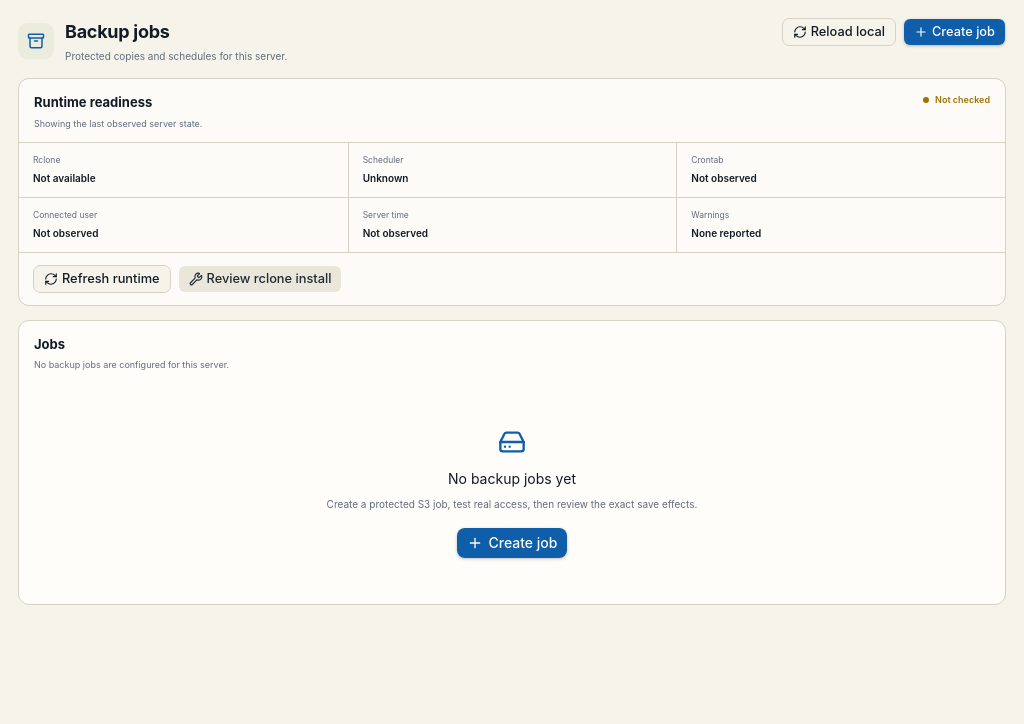
Test: BackupsTab protected workflows › rolls back a new Keychain entry when save admission fails
Expected: the heading "No backup jobs yet" is shown, [448,468,576,489]
Click the button with aria-label "New backup job" at (954, 32), box [903,18,1006,46]
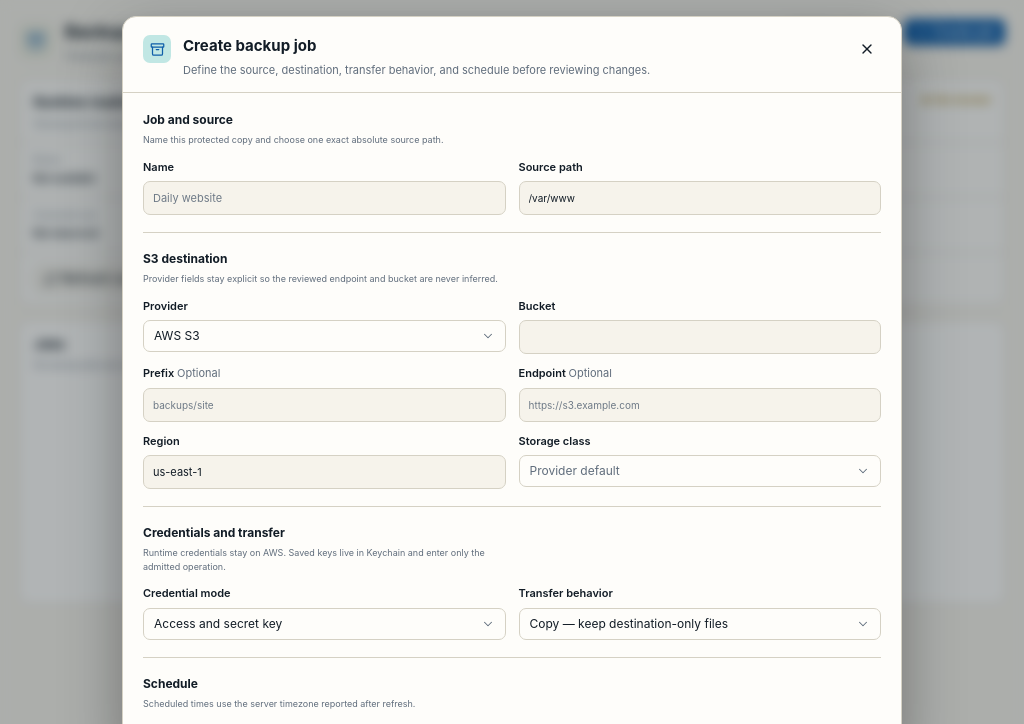
Type "New protected job" into the field labelled "Name" at (324, 198), box [143,181,506,215]
Type "archive-bucket" into the field labelled "Bucket" at (700, 337), box [518,320,881,354]
(page scrolled)
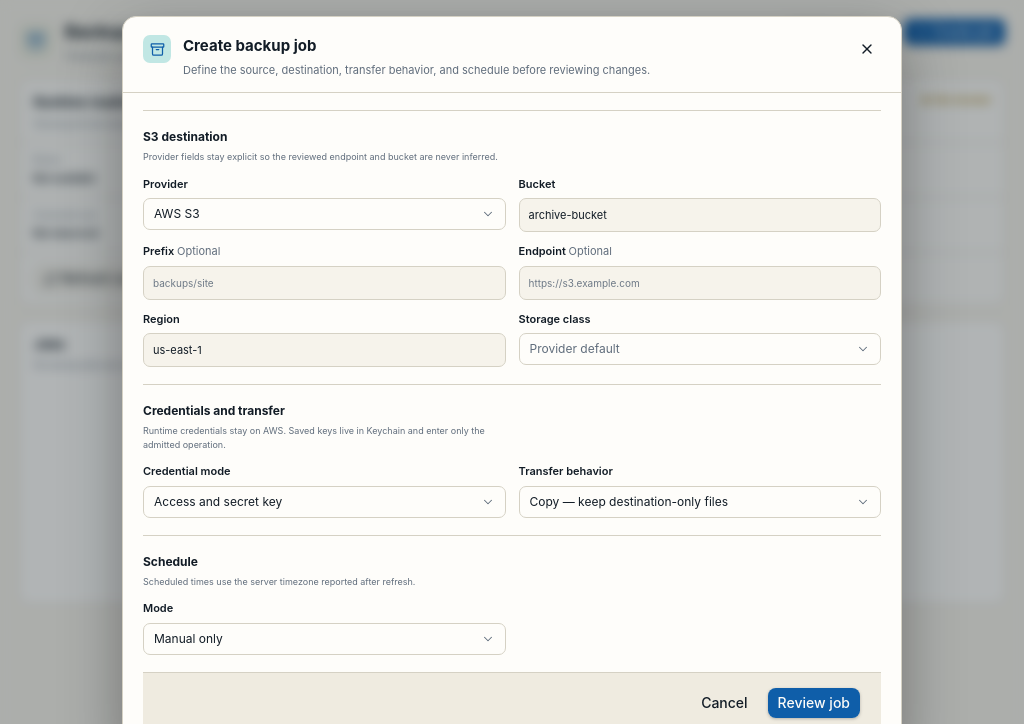
Click the button "Review job" at (814, 702), box [767,686,861,718]
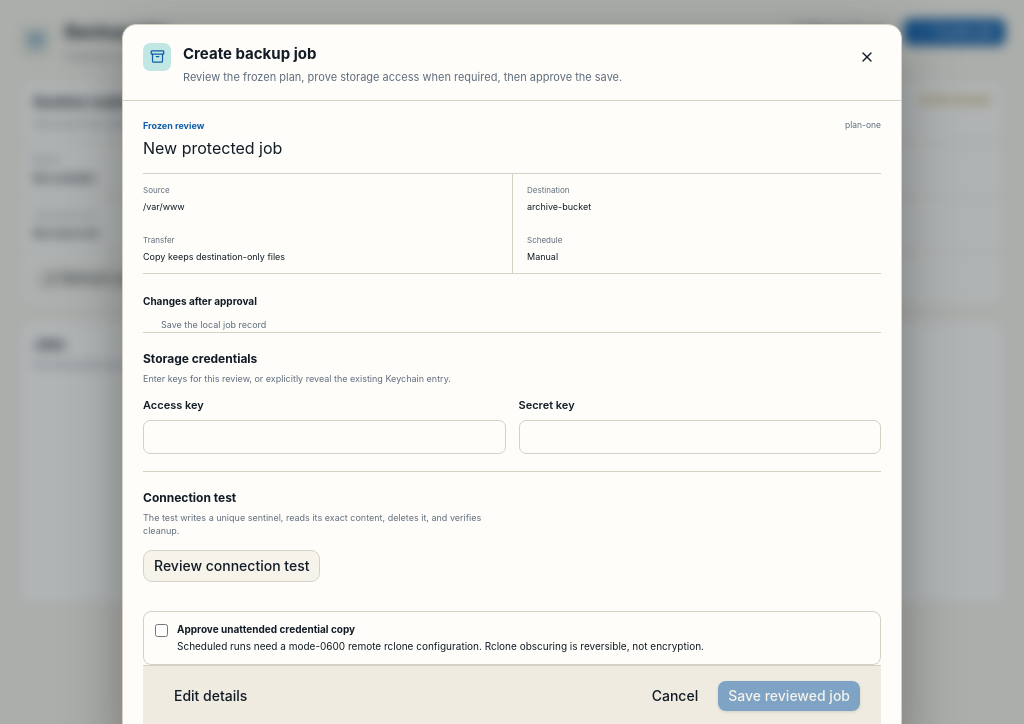
Expected: the text "Frozen review" is shown, [143,120,204,130]
Type "AKIA_TEST" into the password field labelled "Access key" at (324, 436), box [143,420,506,454]
Type "secret-value" into the password field labelled "Secret key" at (700, 436), box [518,420,881,454]
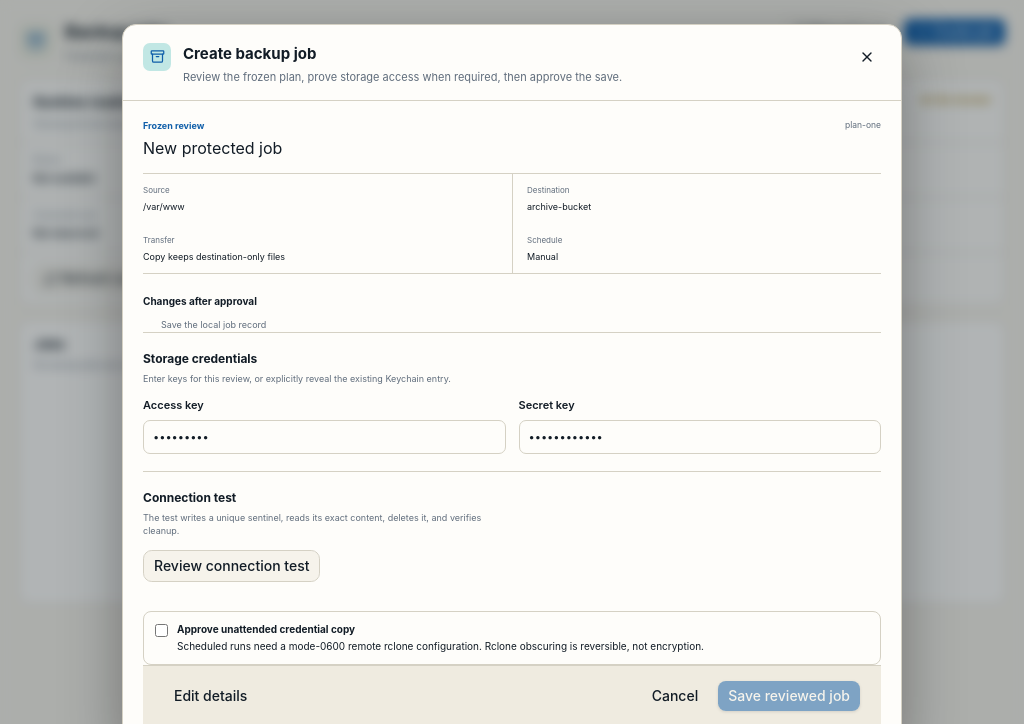
Click the checkbox labelled "Approve unattended credential copy" at (162, 630), box [155,624,168,636]
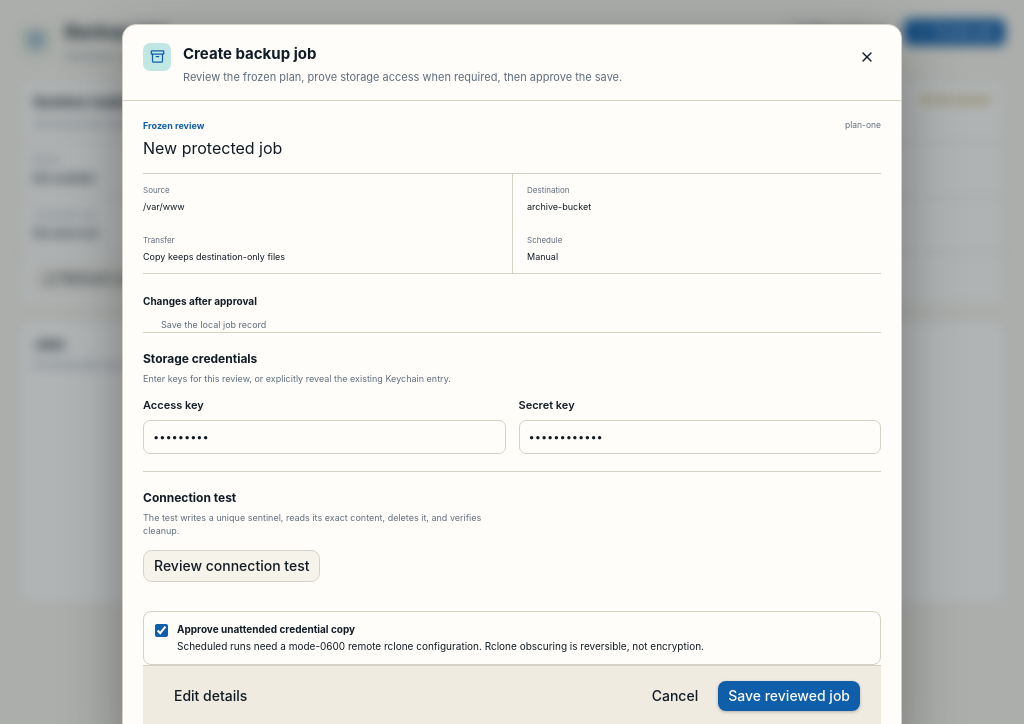
Click the button "Save reviewed job" at (789, 696), box [717,680,861,712]
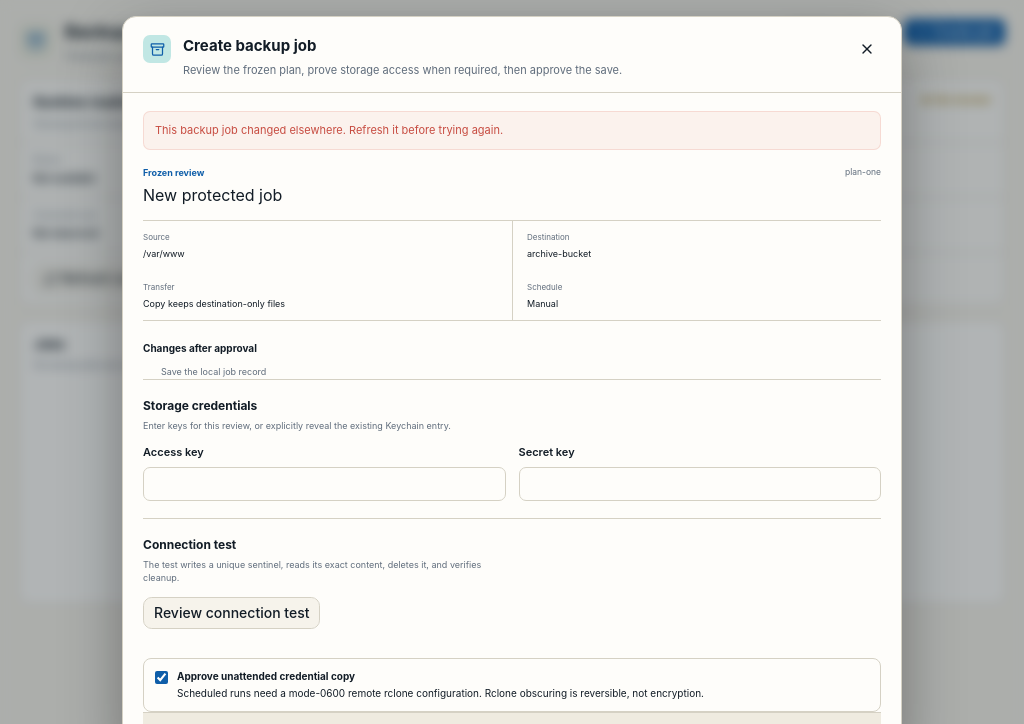
Expected: the text "This backup job changed elsewhere. Refresh it before trying again." is shown, [143,111,881,150]
Expected: the password field labelled "Access key" is empty, [143,466,506,500]
Expected: the password field labelled "Secret key" is empty, [518,466,881,500]
